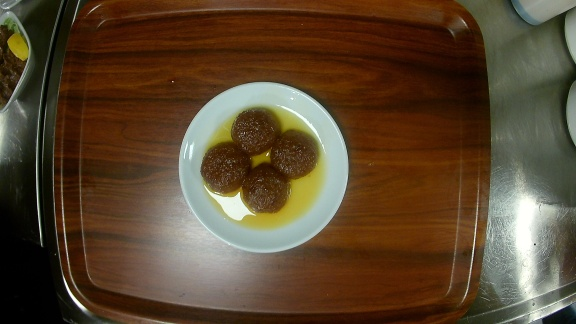kemalpasa: (178, 82, 350, 253)
